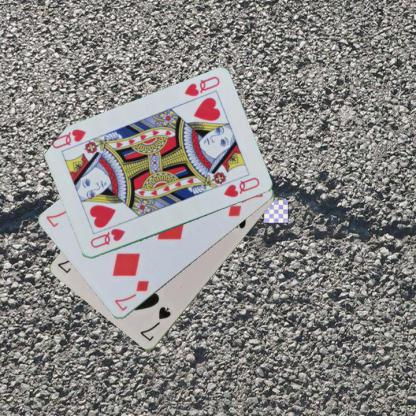7d: (112, 278, 150, 312)
7s: (137, 304, 172, 343)
Qh: (87, 226, 127, 250), (182, 74, 222, 98)
